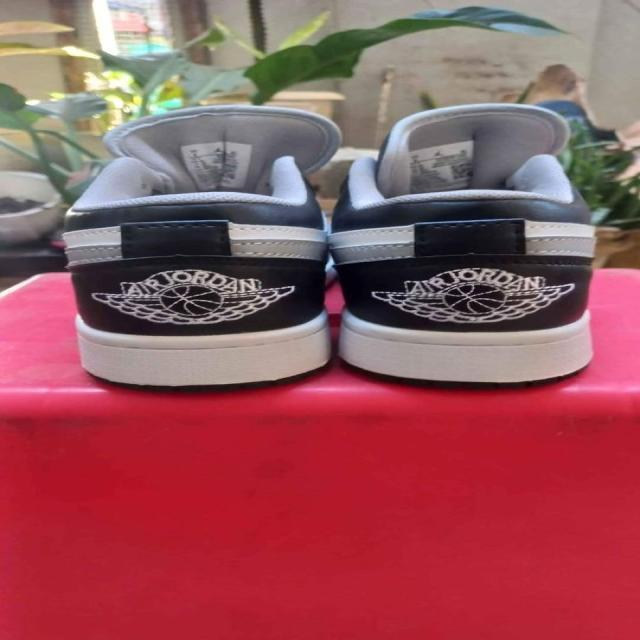nike fake jordan 1: (64, 94, 348, 390), (326, 104, 606, 389)
